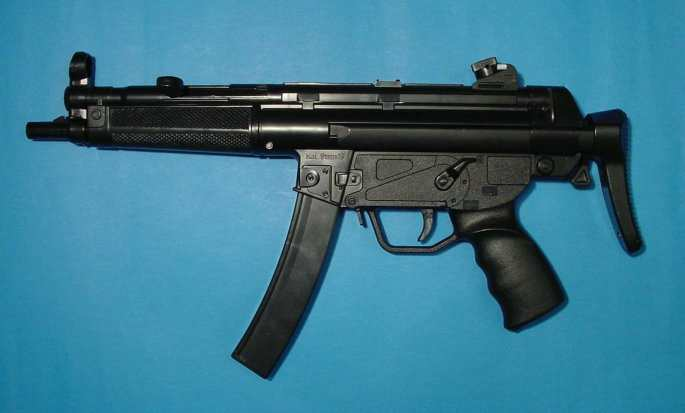rifle: (25, 13, 646, 376)
